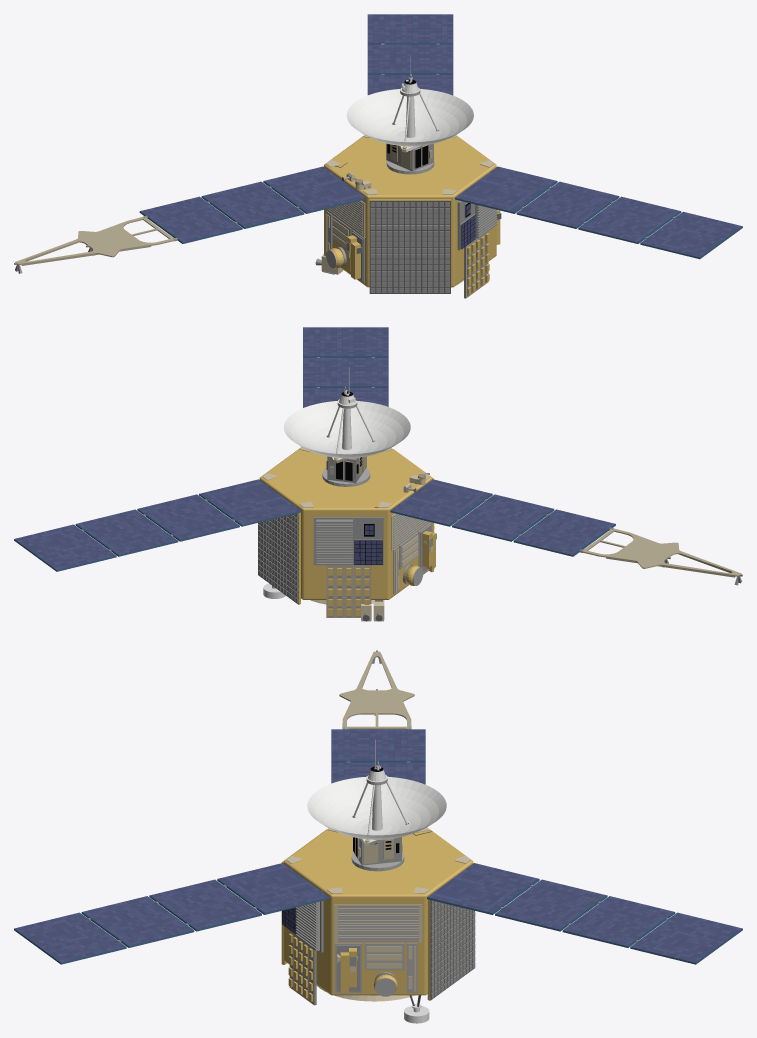
File: Juno (B)_nodraco.glb
3 views of the same model, one above another, from view 1: azimuth 30°, elevation 25°; view 2: azimuth 150°, elevation 25°; view 3: azimuth 270°, elevation 25° (orthographic). The views are drawn at different scales.
Visible parts, largest first — view 1: Layer_0; view 2: Layer_0; view 3: Layer_0.
Part boxes in pixels (<box>): Layer_0: <box>14,14,742,298</box>; Layer_0: <box>14,327,742,621</box>; Layer_0: <box>14,650,742,1023</box>.
Bounding box in the file's own units: 23.26 × 8.73 × 22.92.
